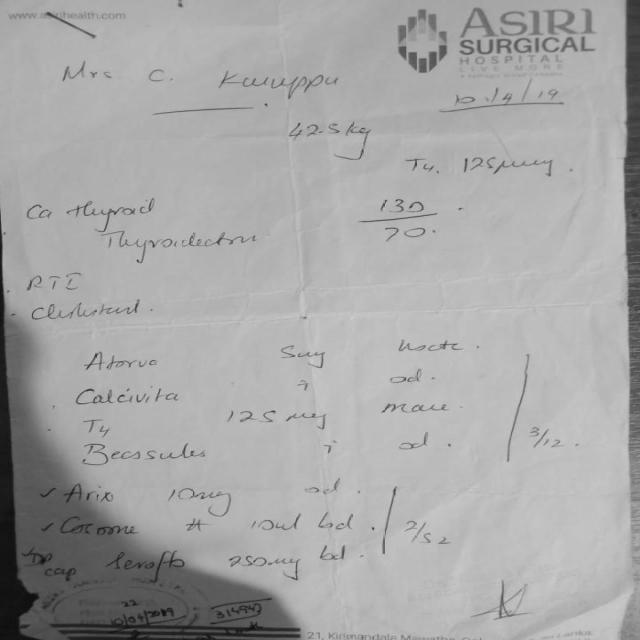Prescription: (77, 330, 472, 378), (79, 393, 463, 441), (70, 364, 438, 413), (81, 424, 438, 464), (103, 538, 361, 583), (63, 471, 352, 509), (60, 505, 359, 541)
